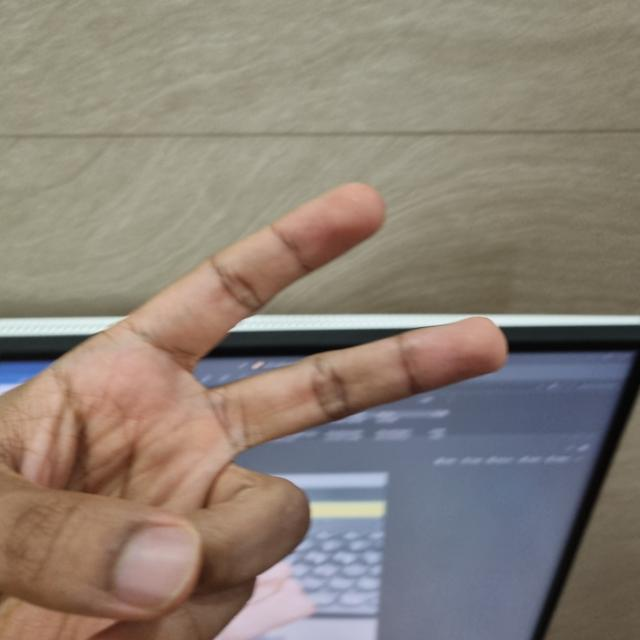Scissors: (1, 192, 499, 640)
